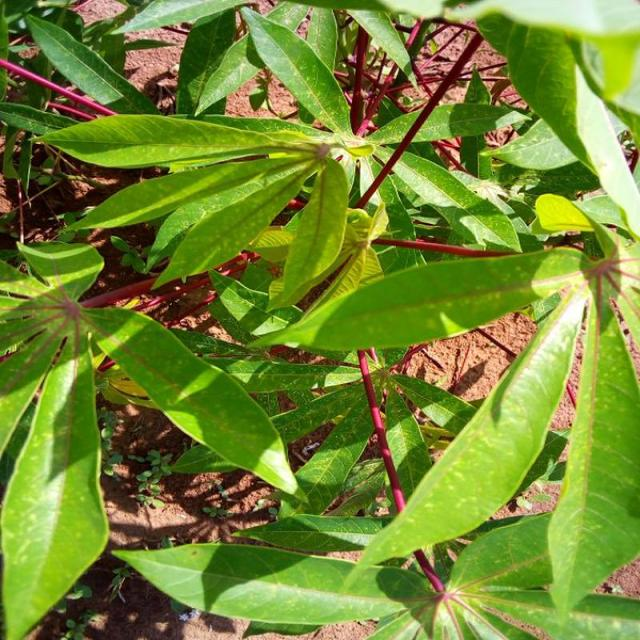cassava leaf: (2, 1, 638, 637), (355, 281, 589, 568), (0, 334, 110, 638)
